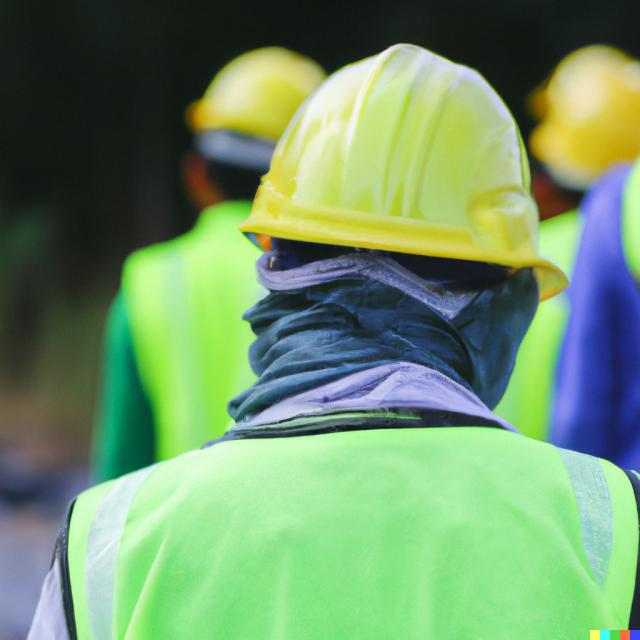Reflective-Jacket: (32, 356, 640, 638)
Safety-Helmet: (236, 42, 567, 287), (181, 40, 346, 155)
